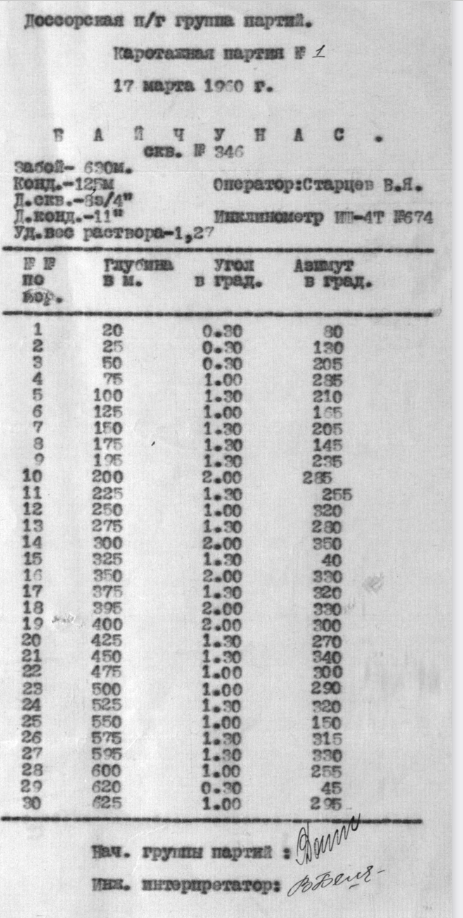Borderless: (4, 250, 445, 829)
